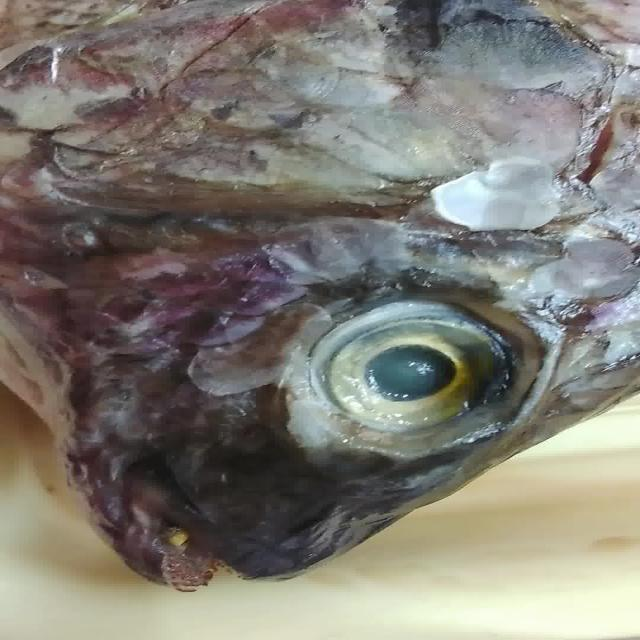Non-Fresh: (288, 277, 526, 472)
